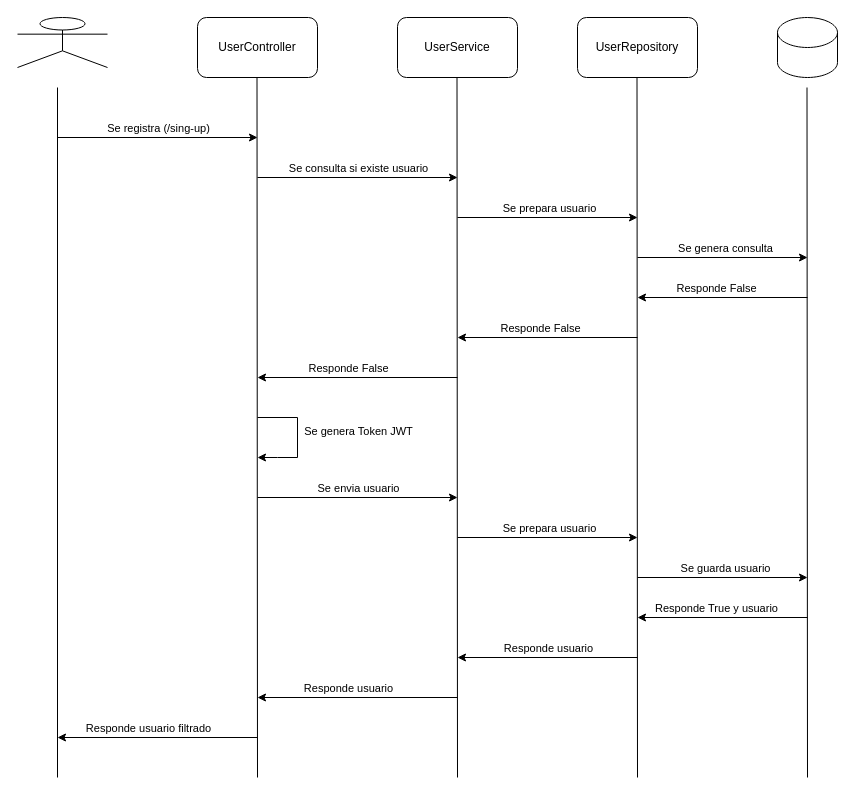
This 855x796 diagram has some shape labels left out. Each missing label, with the centre of its shape:
"BD" belongs at point 807,47.
"Usuario" belongs at point 62,42.
